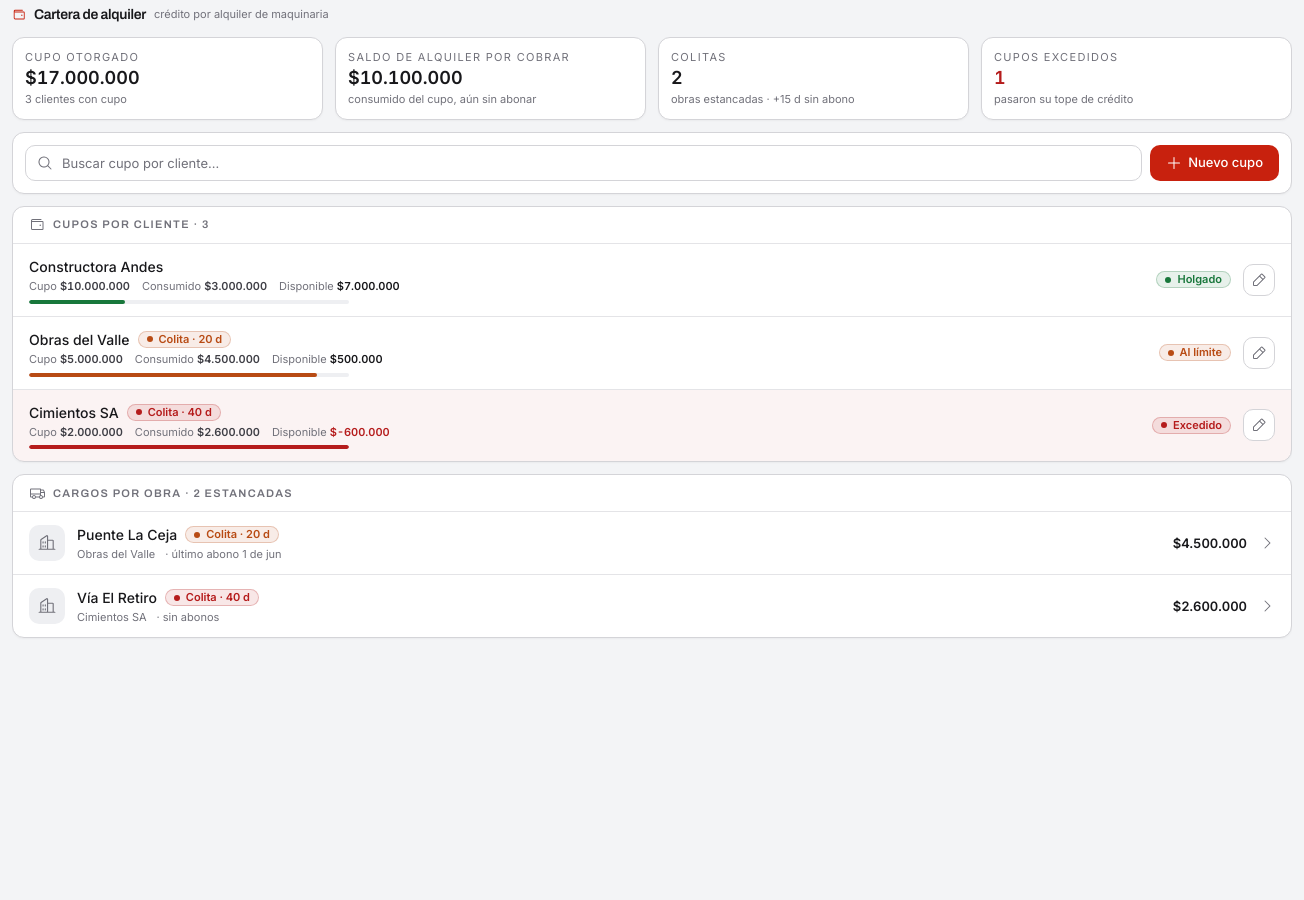
it: CarteraAlquiler — render con datos › expandir una obra estancada carga sus cargos por horas de máquina
Click the text "Puente La Ceja": (127, 535) [77,524,177,545]
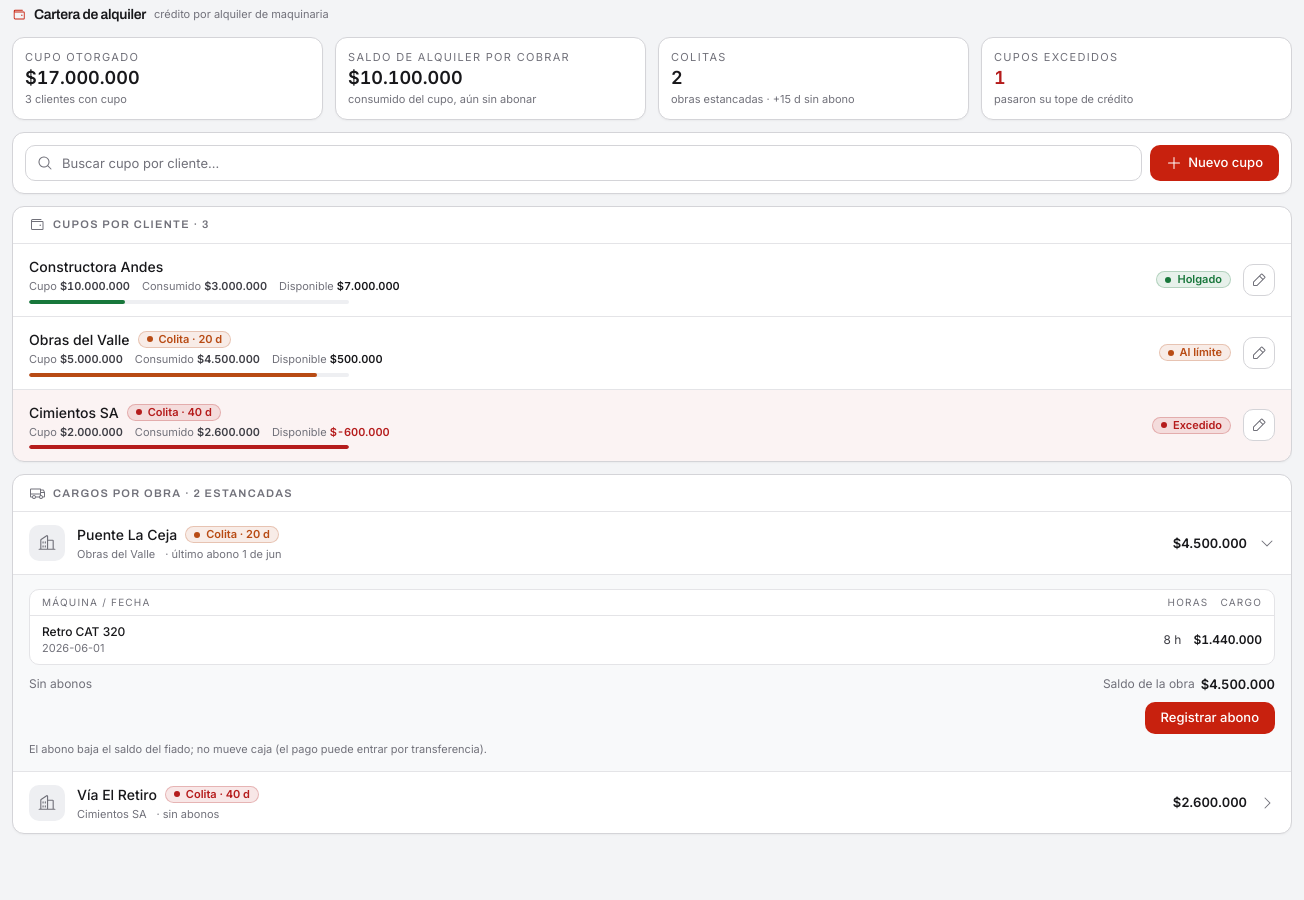
Expected: the text "Retro CAT 320" is shown, [42,624,125,639]
Expected: the text "8 h" is shown, [1163,632,1181,648]
Expected: the text "$1.440.000" is shown, [1193,632,1262,648]
